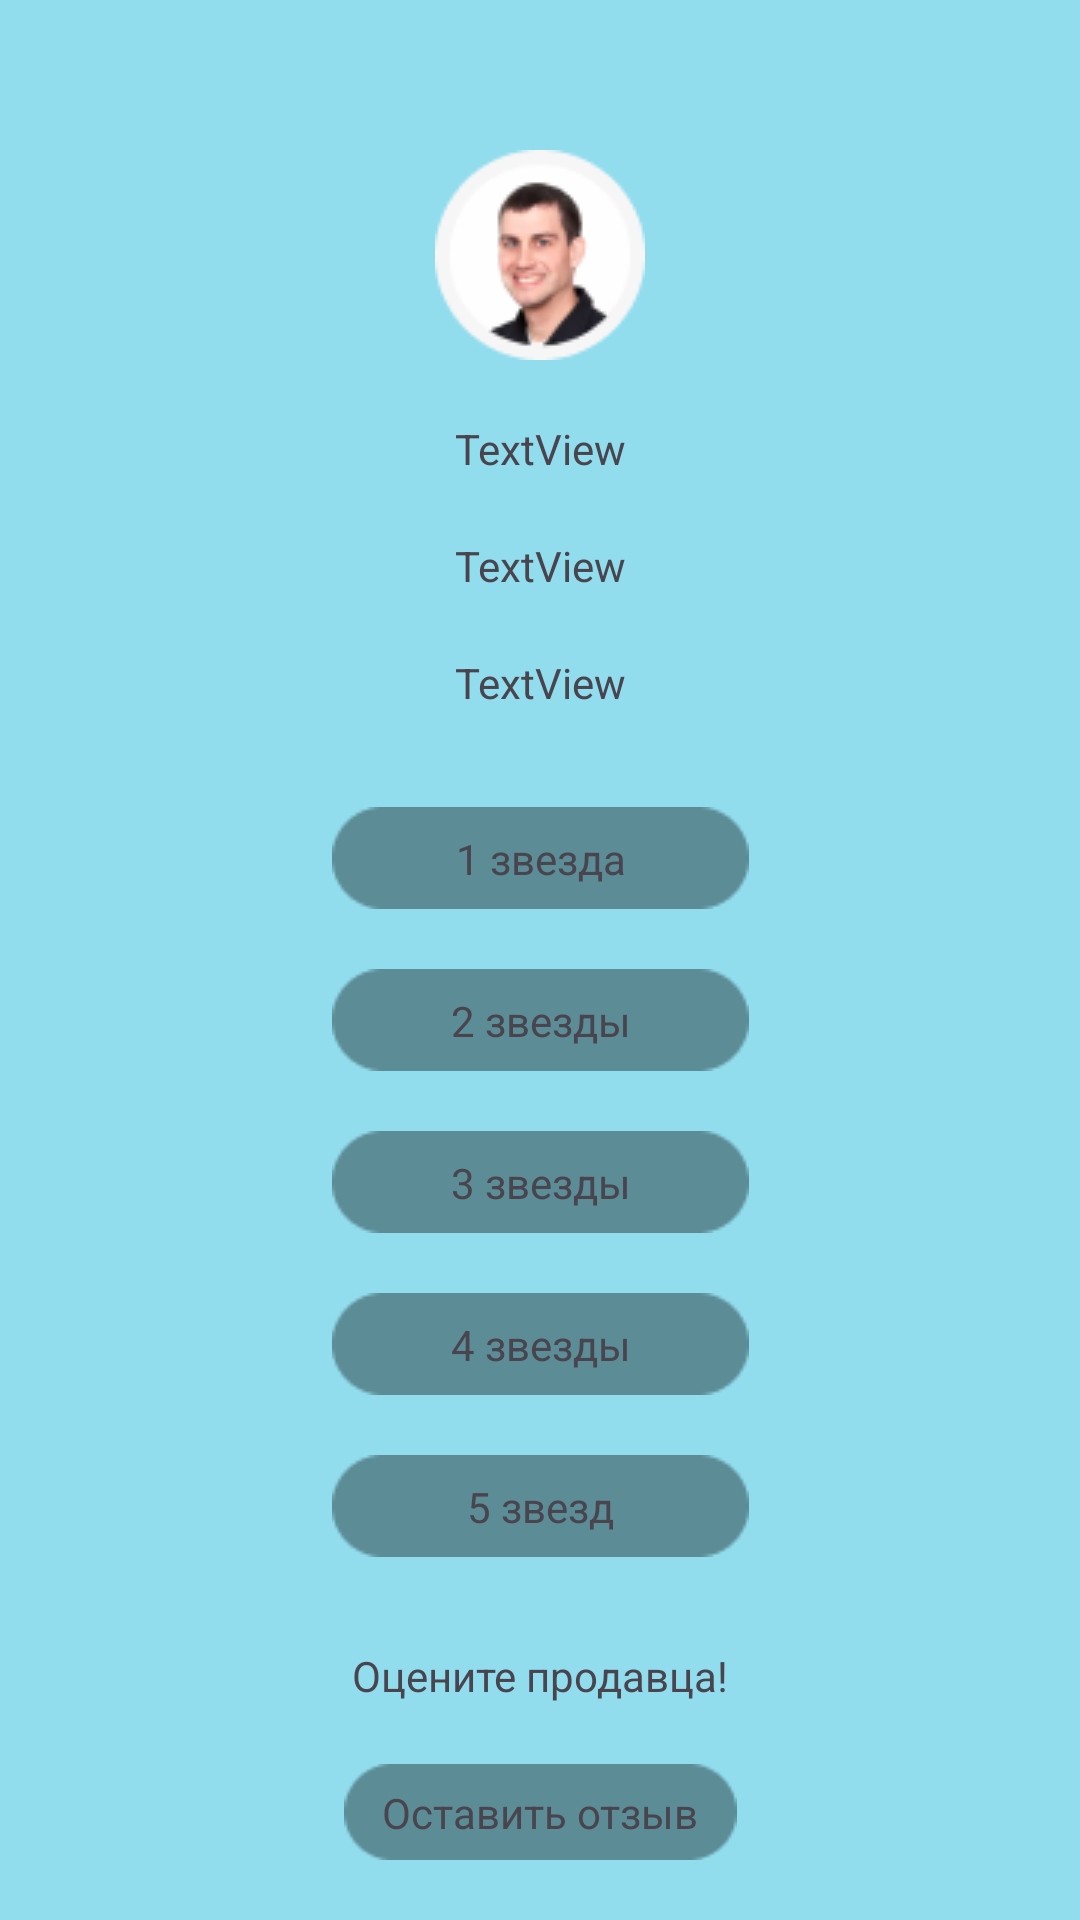

Screen size 1080x1920. Icon name, then its box in pixels as BBox(x1, y1, x2, y2):
defaultava: BBox(435, 150, 645, 360)
